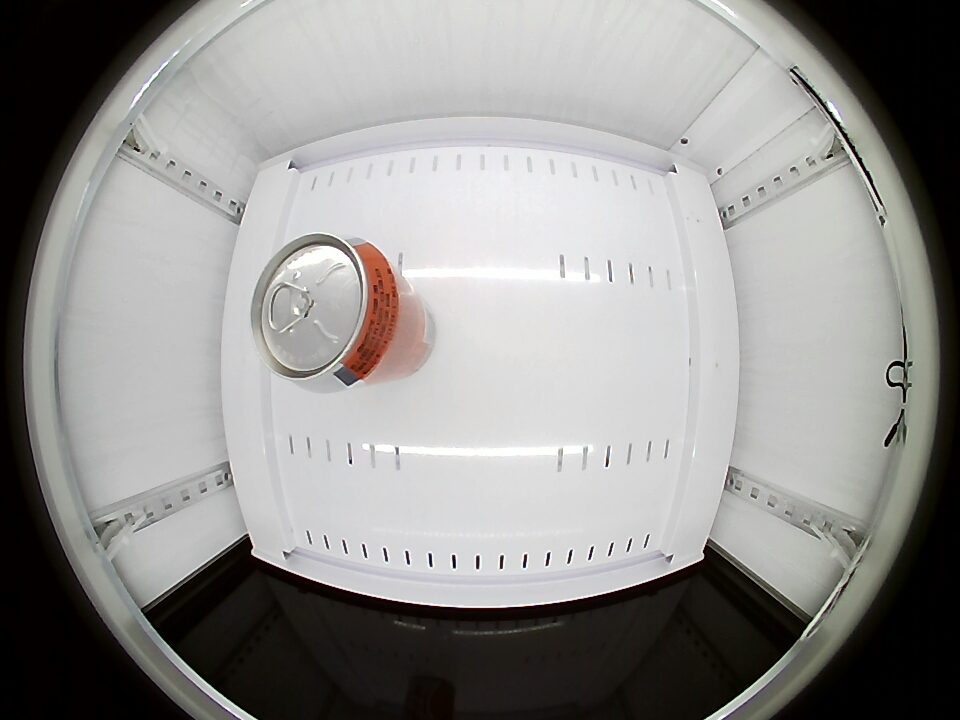jianlibao: (251, 232, 400, 388)
